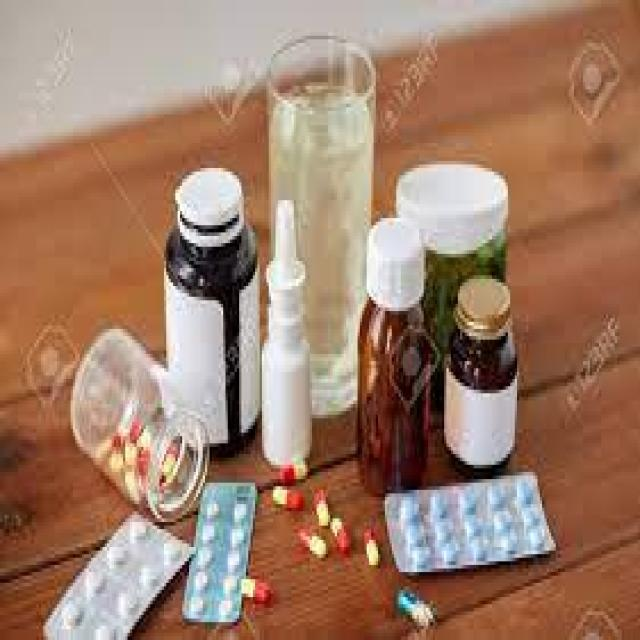B3: (160, 154, 264, 454), (346, 208, 444, 504), (34, 497, 194, 640), (371, 465, 563, 579), (435, 268, 528, 490), (178, 465, 264, 640)
